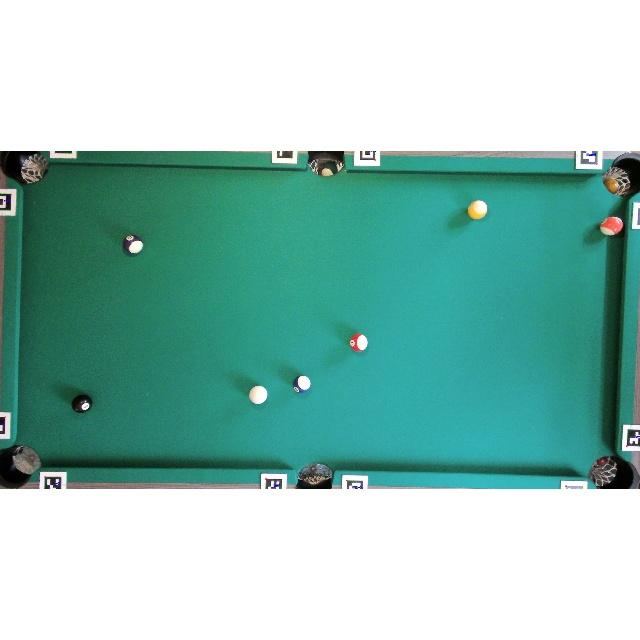cue ball: (248, 385, 268, 404)
other: (600, 216, 624, 236), (467, 199, 489, 220), (123, 234, 143, 254), (72, 394, 92, 414), (292, 374, 312, 394), (349, 333, 367, 353)
